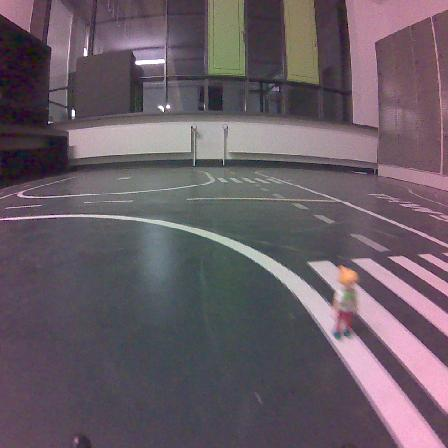CHILD: (333, 266, 358, 338)
